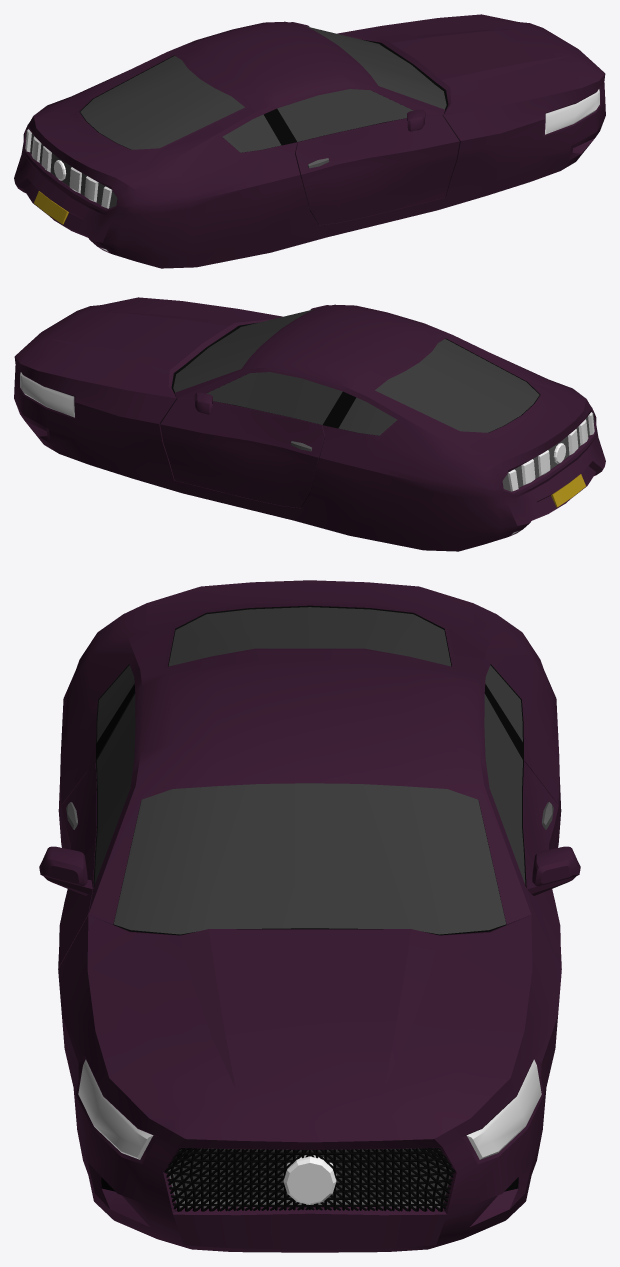
File: FlyingCar_sport.fbx
3 renders of one model, top to bottom at view 1: azimuth 30°, elevation 25°; view 2: azimuth 150°, elevation 25°; view 3: azimuth 270°, elevation 25°, orthographic. The views are drawn at different scales.
Parts seen in each view (by area): view 1: body; view 2: body; view 3: body.
Boxes of the visible parts, x1=… form: body: x1=14, y1=14, x2=605, y2=268; body: x1=14, y1=297, x2=605, y2=551; body: x1=39, y1=580, x2=580, y2=1252.
Bounding box in the file's own units: 294 × 81.93 × 130.
